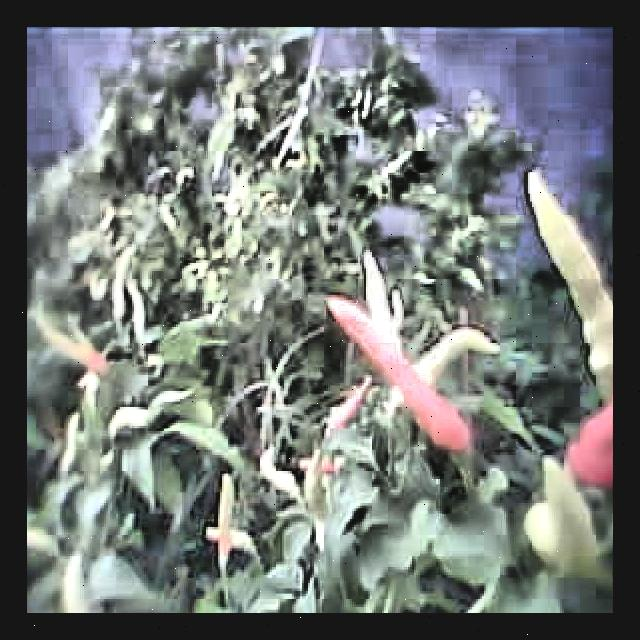Cabai: (325, 325, 443, 455), (566, 304, 613, 507)
